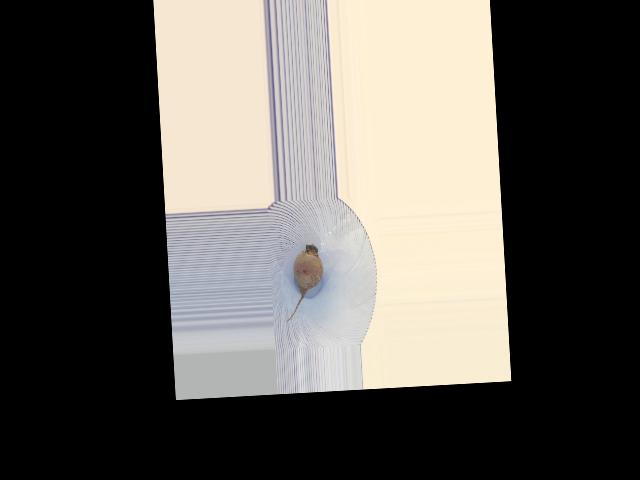beet: (282, 243, 325, 321)
